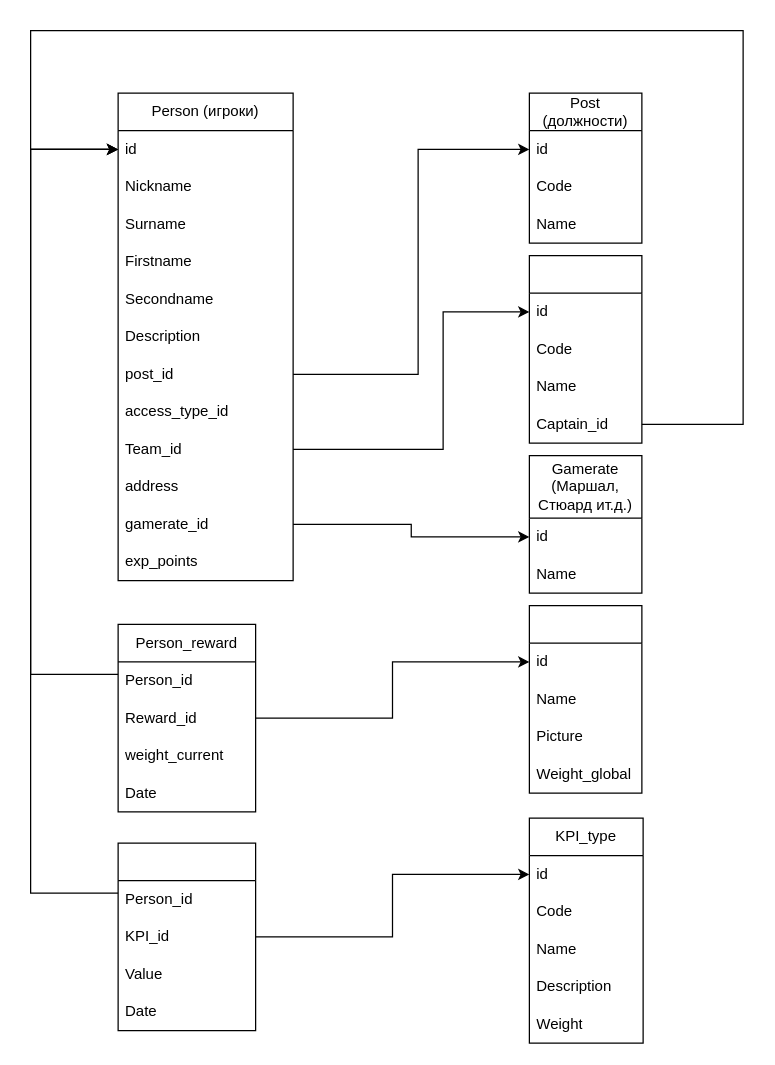
The diagram is 775 pixels wide and 1065 high, and some of its shapes have lost their labels. The shapes that lost their labels are listed below. From the top down, each one's box as (x1, y1, x2, y2) in pixels, then its label:
(528, 254, 642, 443): Team (команды)
(528, 604, 642, 793): reward
(117, 842, 256, 1031): Person_KPI
